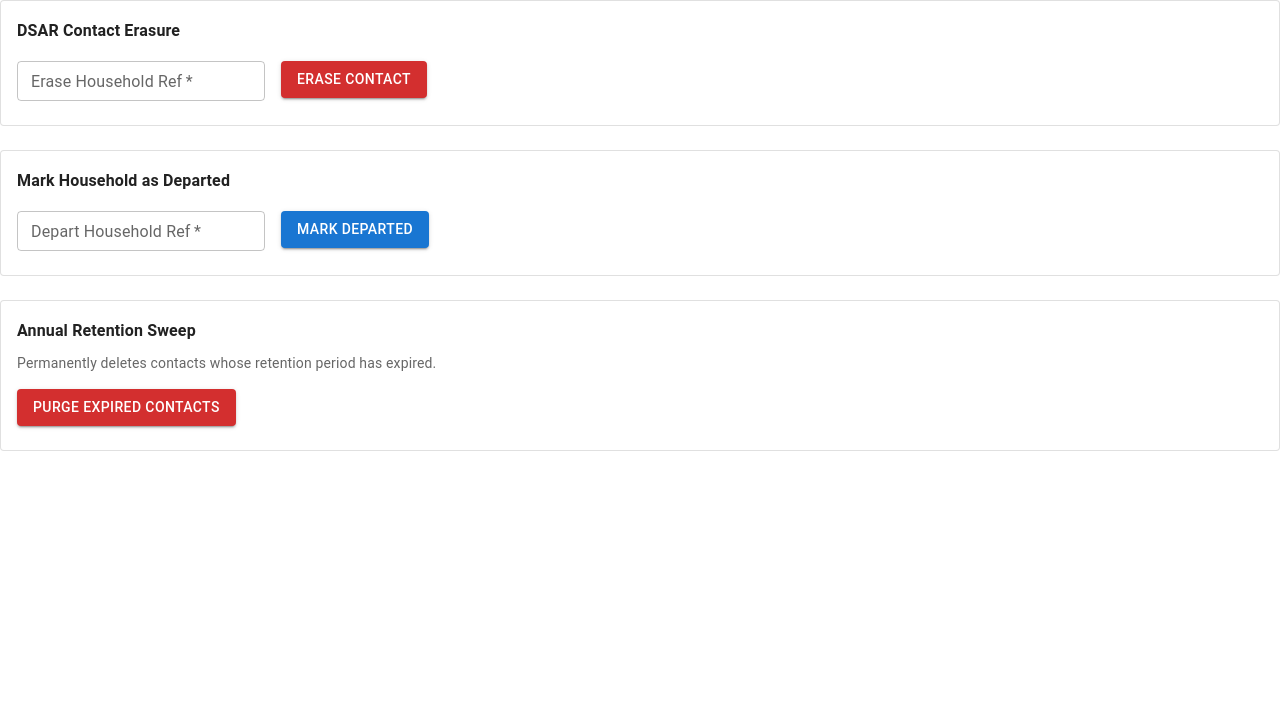
Test: erase-form shows not-found result when eraseContact returns not-found
Type "H999" into the field with test id "erase-ref-input".
click(141, 81); type("H999")  # box [17,61,265,101]
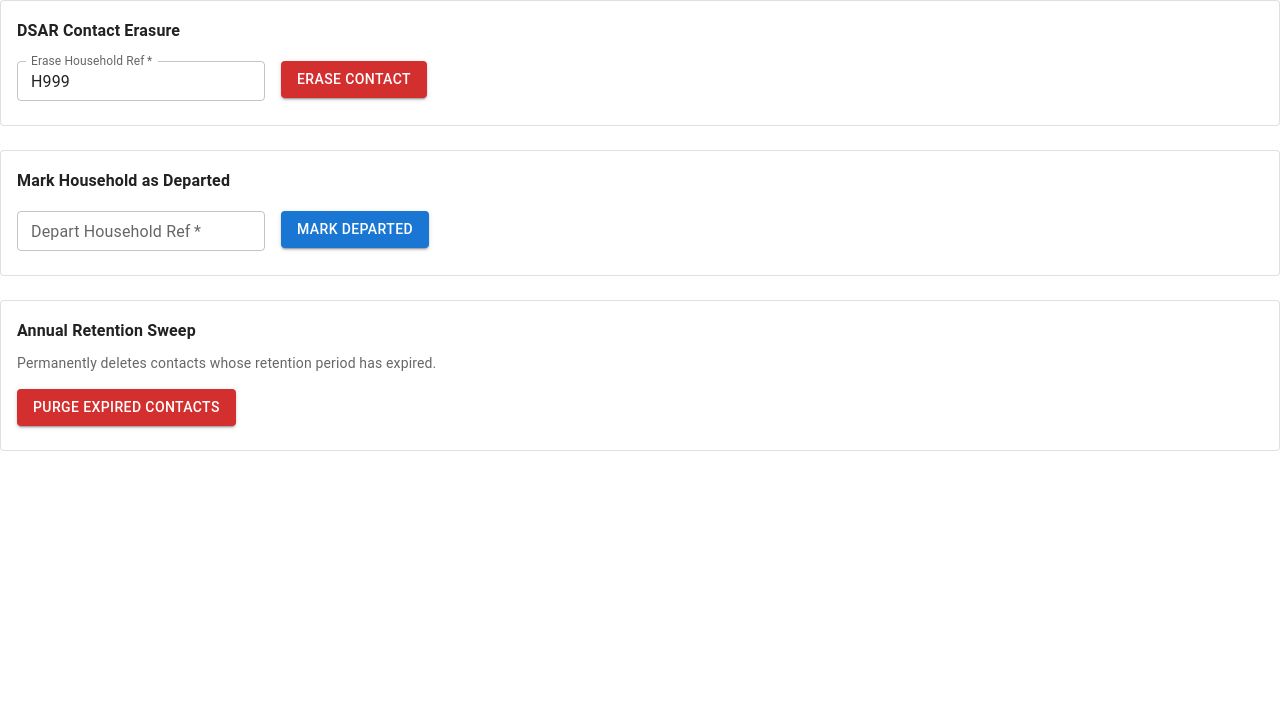
Submit the form with test id "erase-form", box [17,54,427,101]
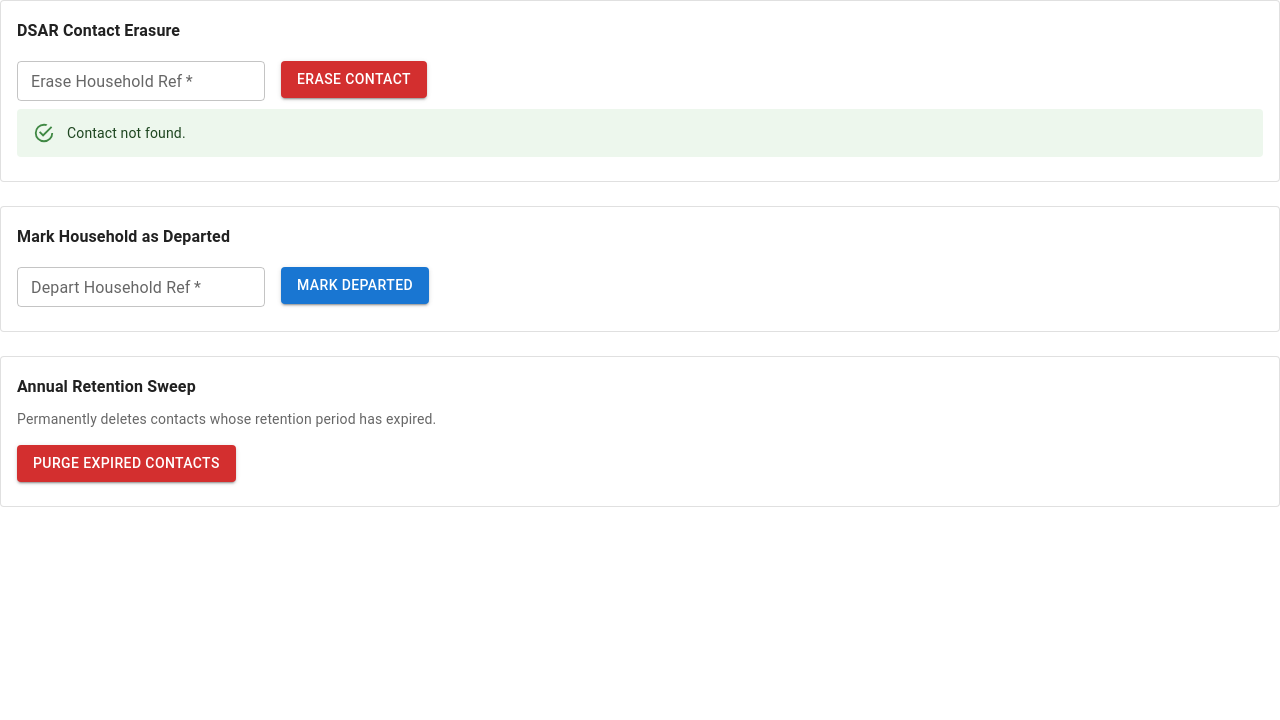
Expected: the message "Contact not found." is shown, [17,109,1263,157]
Expected: the message with test id "erase-result" shows "not found", [67,125,186,141]
